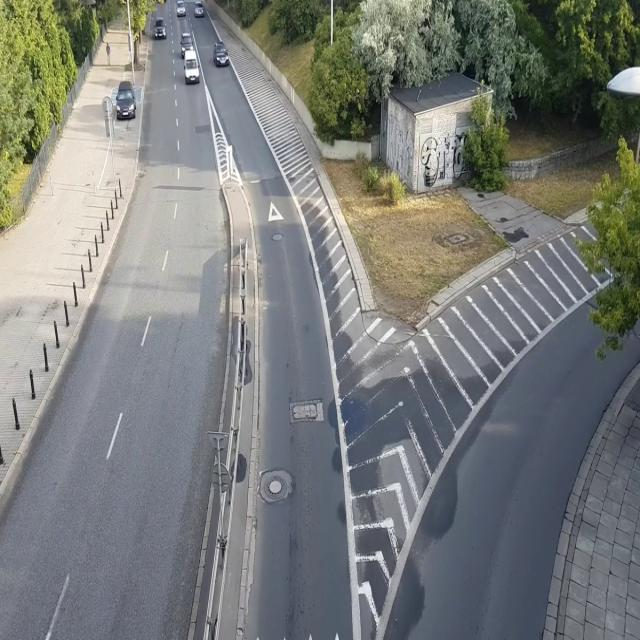car: (115, 80, 136, 120), (212, 41, 230, 68), (180, 32, 195, 57), (154, 16, 167, 40), (193, 0, 204, 18), (176, 0, 187, 18)
van: (183, 49, 200, 84)
